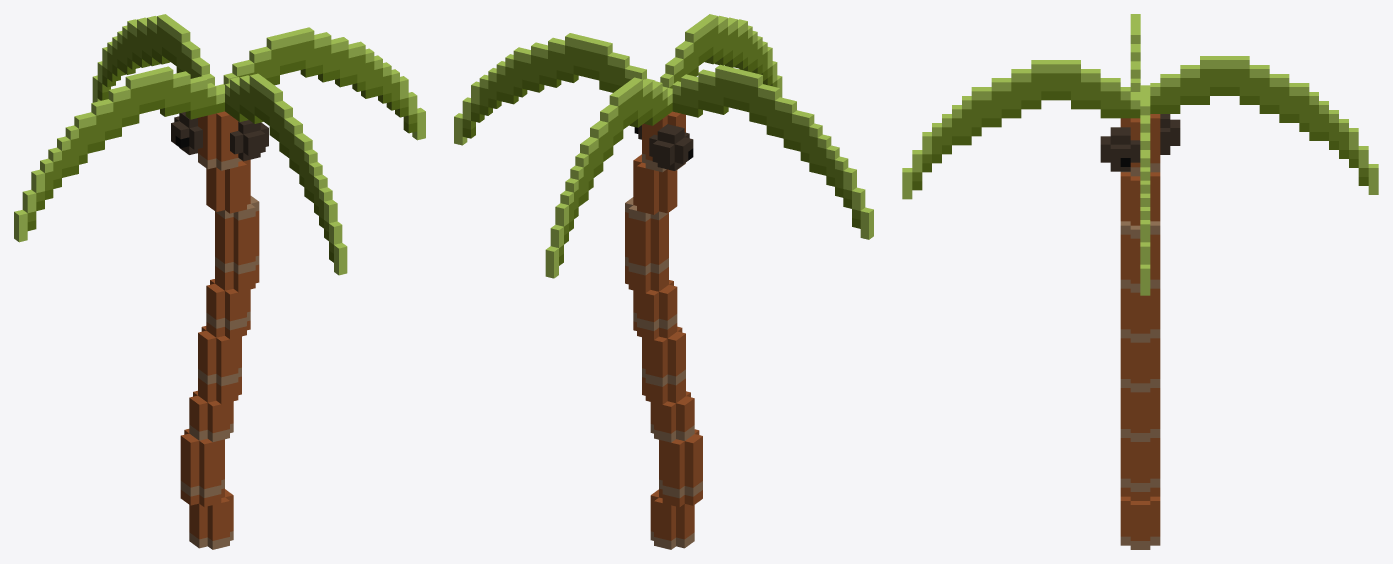
File: Palm 1.obj
The picture shows the model from 3 angles, left to right: view 1: azimuth 30°, elevation 25°; view 2: azimuth 150°, elevation 25°; view 3: azimuth 270°, elevation 25°; orthographic projection.
Parts seen in each view (by area): view 1: Palm 1; view 2: Palm 1; view 3: Palm 1.
Boxes of the visible parts, x1=… form: Palm 1: x1=14, y1=14, x2=425, y2=549; Palm 1: x1=454, y1=14, x2=873, y2=549; Palm 1: x1=902, y1=14, x2=1378, y2=549.
Bounding box in the file's own units: 48 × 54 × 48.
Materials: 1 (1 with a texture image).
